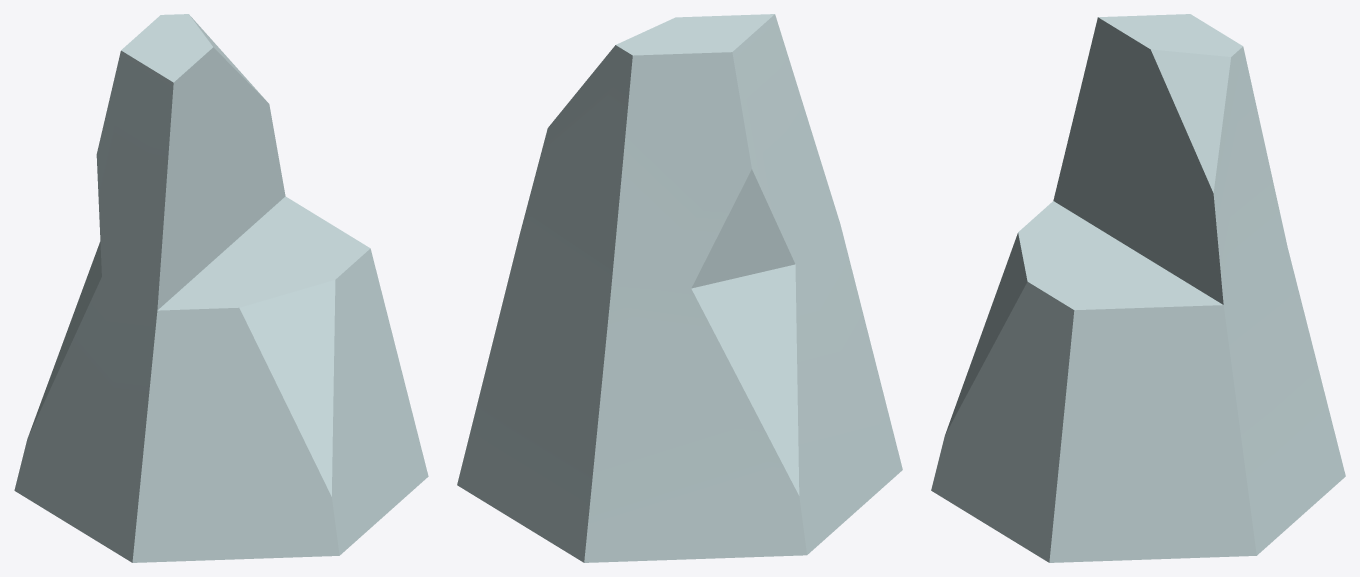
Rendered from stone_tall10.glb.
The picture shows the model from 3 angles, left to right: view 1: azimuth 30°, elevation 25°; view 2: azimuth 150°, elevation 25°; view 3: azimuth 270°, elevation 25°; orthographic projection. The views are drawn at different scales.
Visible parts, largest first — view 1: stone_tall10; view 2: stone_tall10; view 3: stone_tall10.
Boxes of the visible parts, x1,y1,x2,y2 form: stone_tall10: (14,14,428,562); stone_tall10: (457,14,902,562); stone_tall10: (931,14,1345,562).
Size of the model in its own units: 0.4879 by 0.62 by 0.5382.
